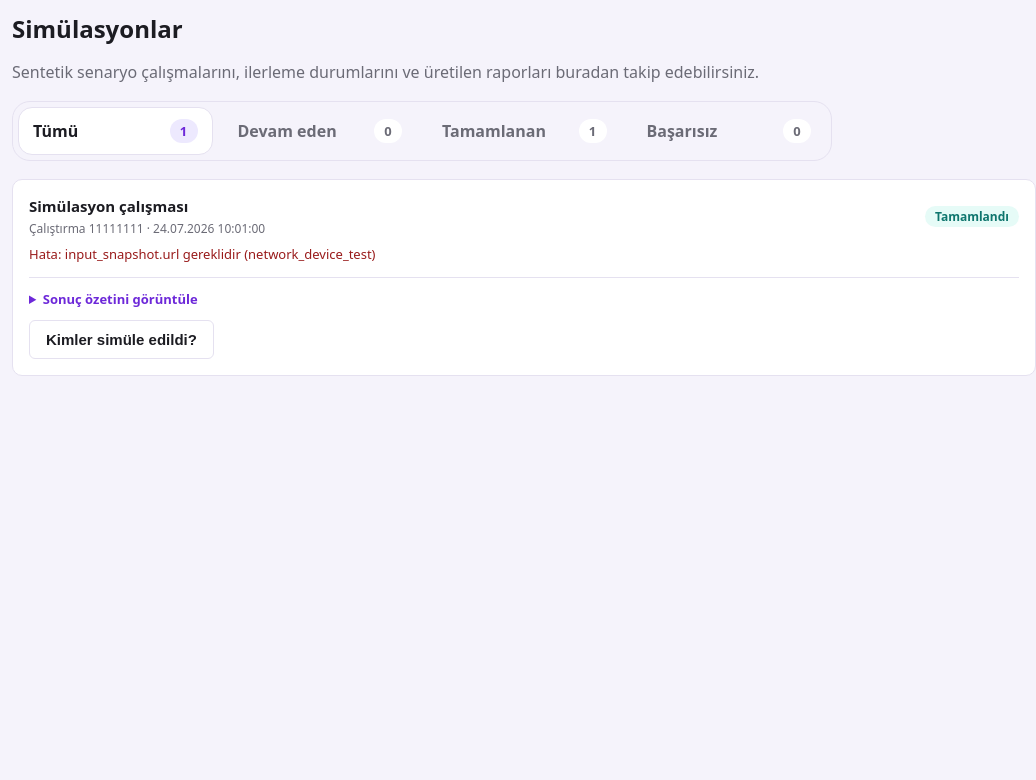
Test: Simulations - 'Kimler simüle edildi?' persona paneli › persona sayisini, toplam nufusu, yuzdeleri ve etiketleri dogru gosterir
Expected: the text "Çalıştırma 11111111 · 24.07.2026 10:01:00" is shown, [29,220,265,237]
Click the button "Kimler simüle edildi?" at (121, 340), box [29,320,214,359]
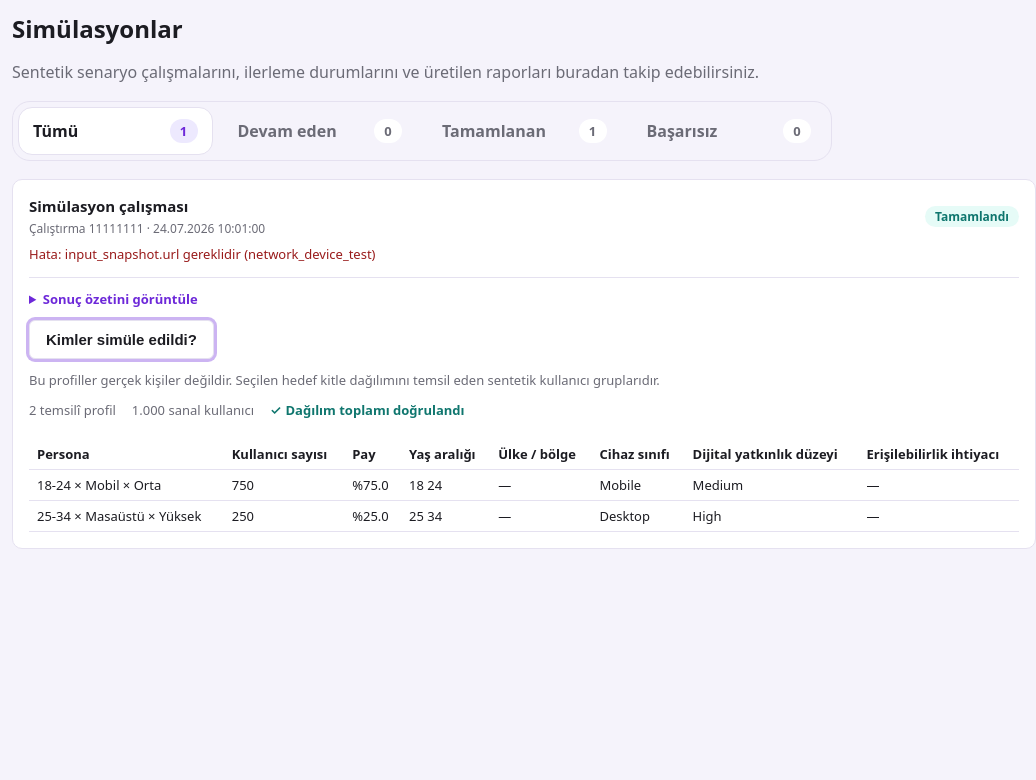
Now the text "2 temsilî profil" is shown, box [29,401,116,419]
Now the text "1.000 sanal kullanıcı" is shown, box [132,401,254,419]
Now the text "✓ Dağılım toplamı doğrulandı" is shown, box [270,401,465,419]
